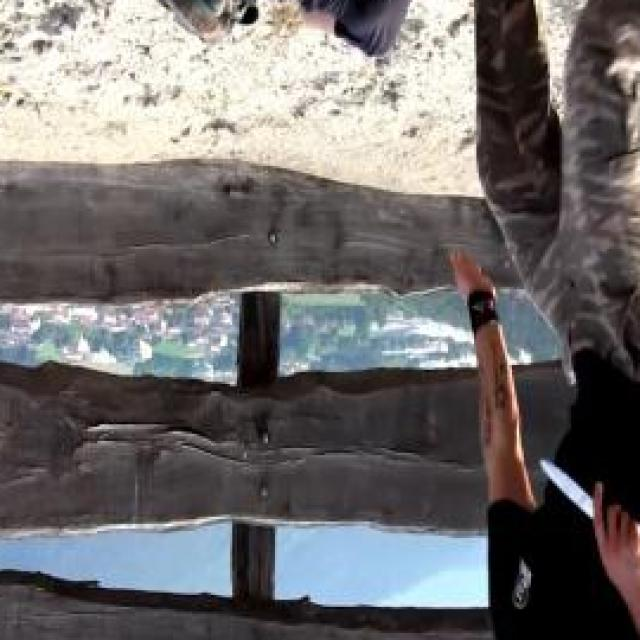knife: (533, 453, 640, 559)
